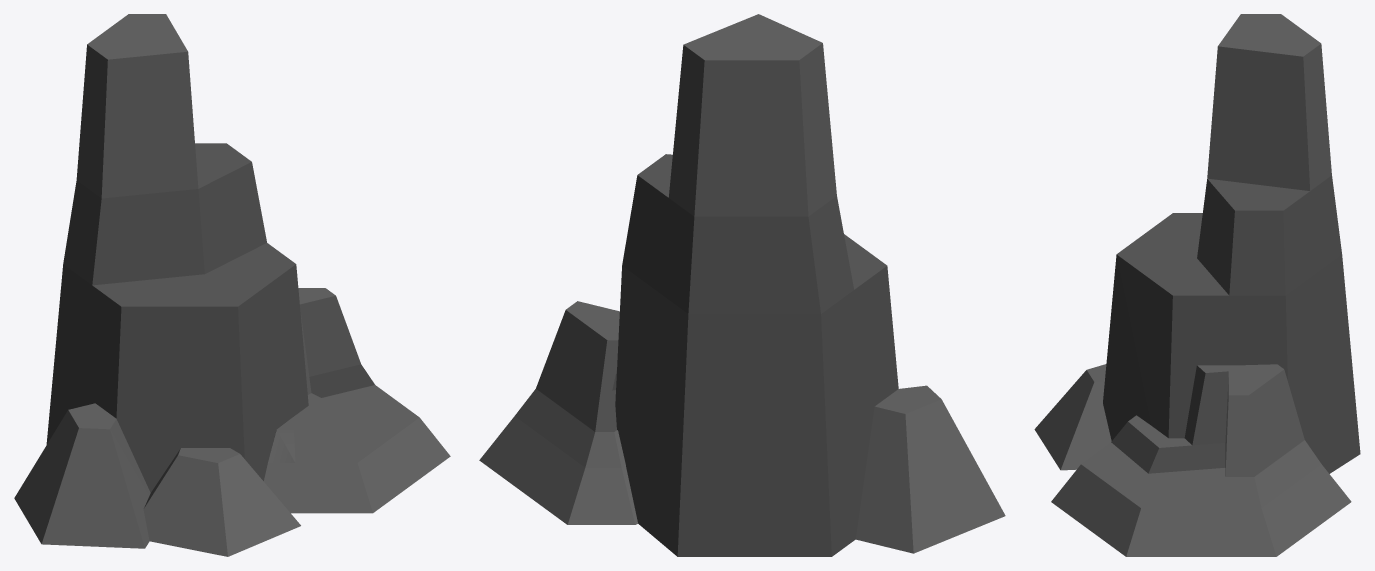
Rendered from StoneOre2.fbx.
3 views of the same model, side by side, from view 1: azimuth 30°, elevation 25°; view 2: azimuth 150°, elevation 25°; view 3: azimuth 270°, elevation 25° (orthographic). The views are drawn at different scales.
Visible parts, largest first — view 1: Stone3_4, Stone3_2, Stone3_3, Stone3_1; view 2: Stone3_4, Stone3_1, Stone3_2, Stone3_3; view 3: Stone3_2, Stone3_4, Stone3_1, Stone3_3.
Boxes of the visible parts, x1=… form: Stone3_4: x1=46, y1=243, x2=308, y2=492; Stone3_2: x1=63, y1=143, x2=450, y2=513; Stone3_3: x1=14, y1=403, x2=300, y2=556; Stone3_1: x1=76, y1=14, x2=360, y2=394; Stone3_4: x1=615, y1=234, x2=898, y2=556; Stone3_1: x1=536, y1=14, x2=836, y2=431; Stone3_2: x1=479, y1=154, x2=853, y2=524; Stone3_3: x1=855, y1=385, x2=1005, y2=553; Stone3_2: x1=1051, y1=175, x2=1351, y2=556; Stone3_4: x1=1103, y1=213, x2=1360, y2=473; Stone3_1: x1=1184, y1=14, x2=1331, y2=476; Stone3_3: x1=1034, y1=364, x2=1111, y2=470.
Bounding box in the file's own units: 222 × 226 × 163.
